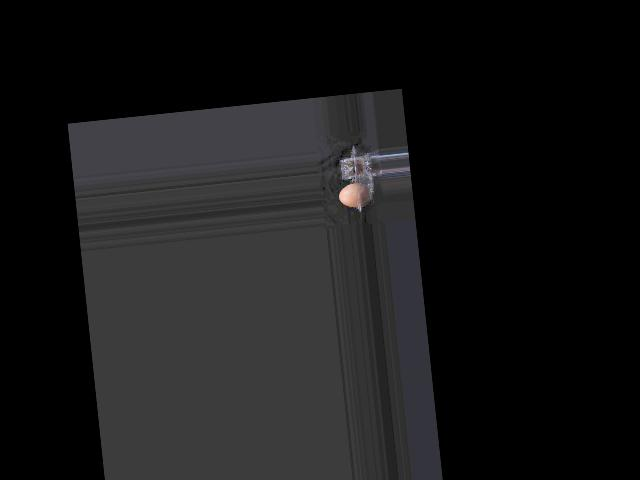egg: (338, 182, 372, 209)
